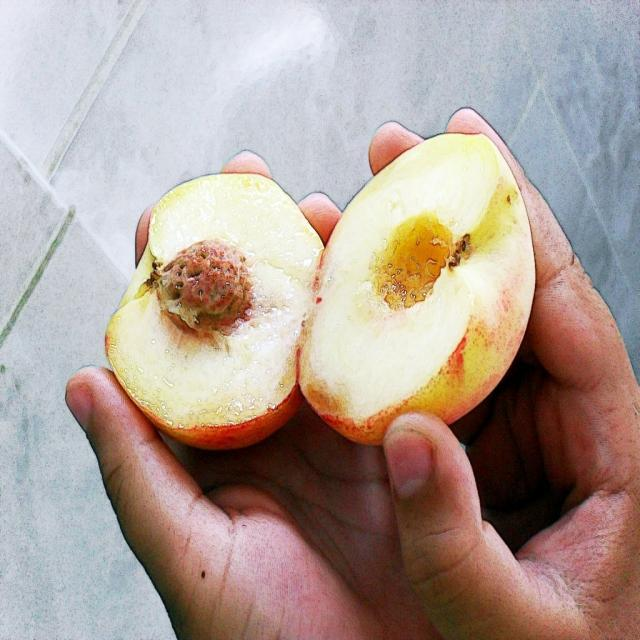Peach: (103, 127, 535, 455)
